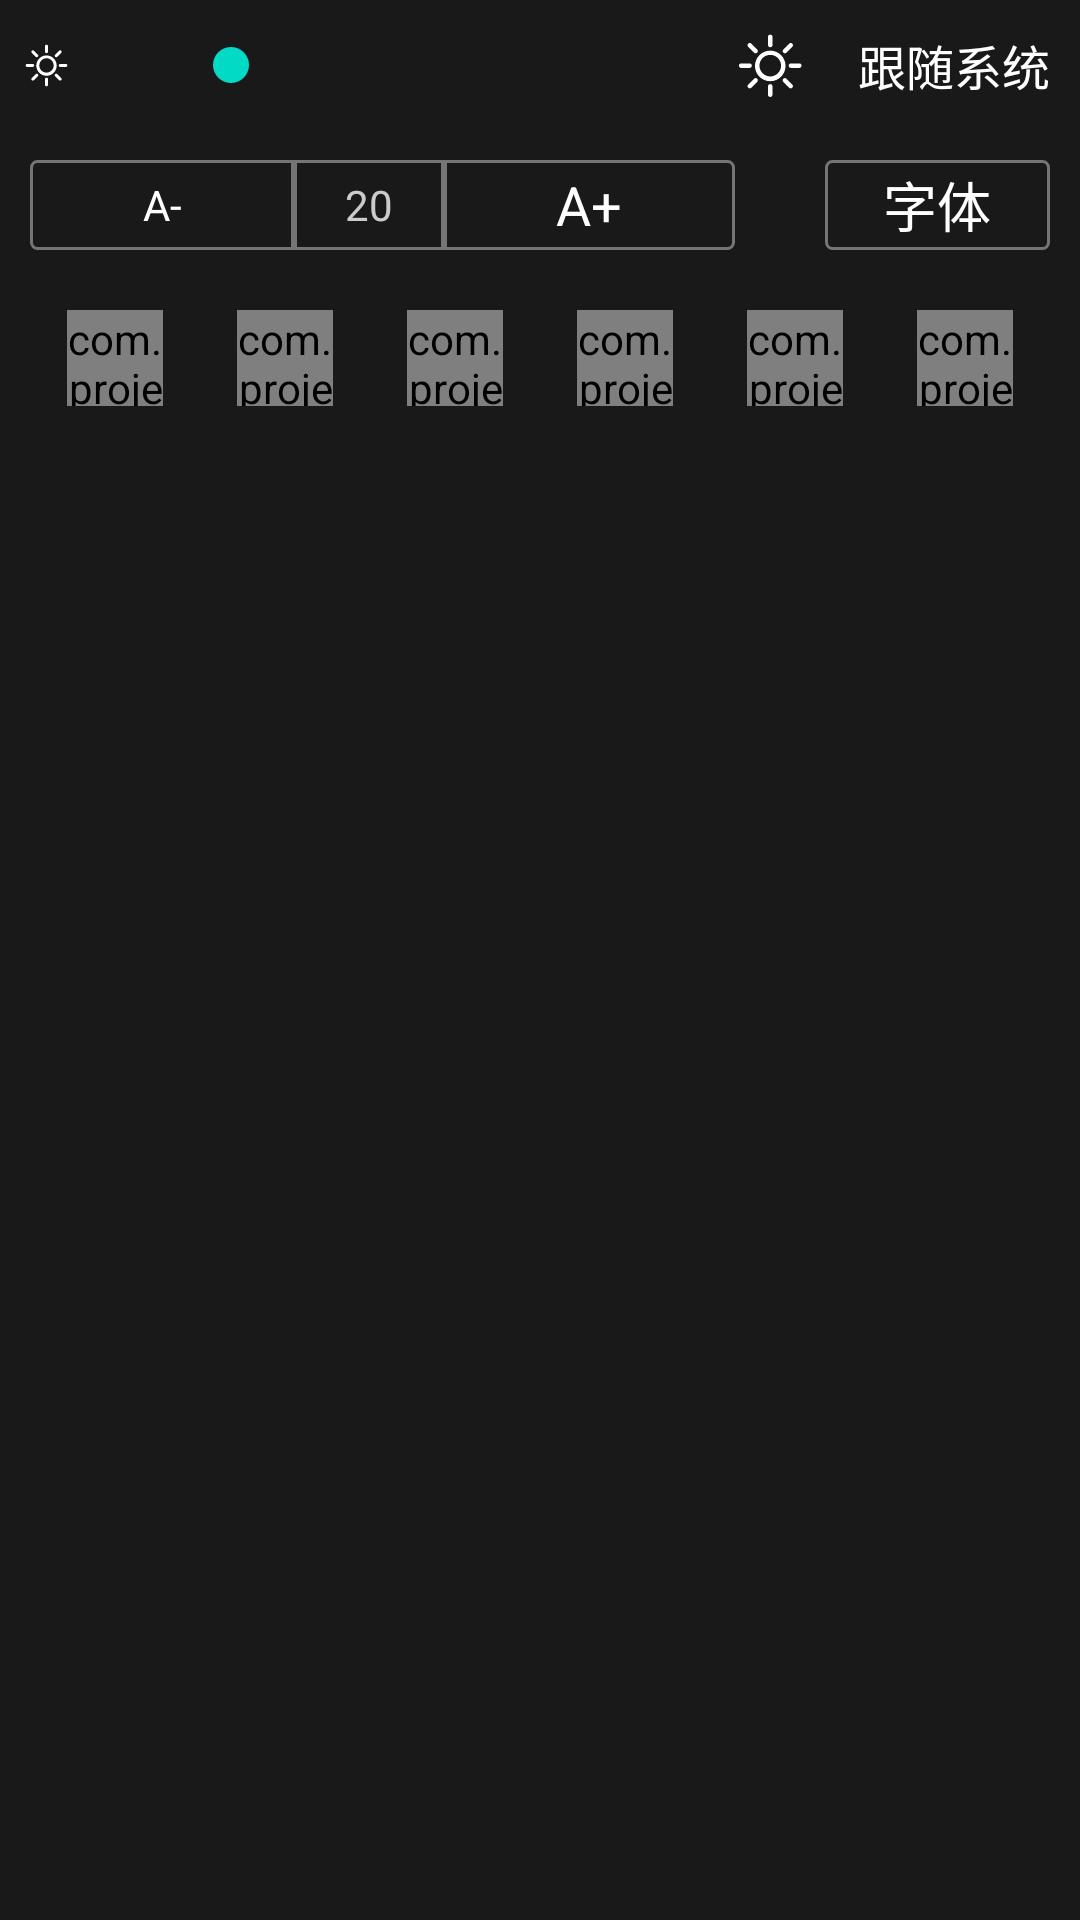

Icon bounding boxes for this 1080*1920 phone screenshot, format bbox(x1, y1, x2, y2):
sun: bbox(739, 34, 802, 97), bbox(25, 44, 68, 87)
